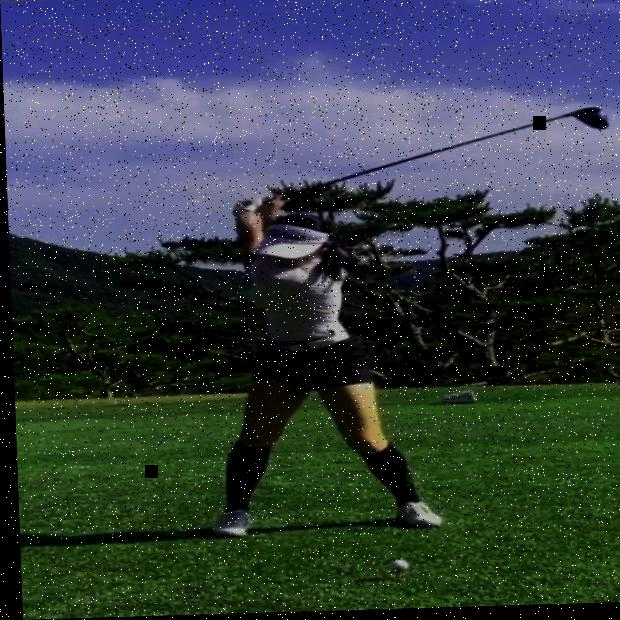ClubHead: (574, 110, 613, 134)
GolfBall: (383, 561, 404, 573)
